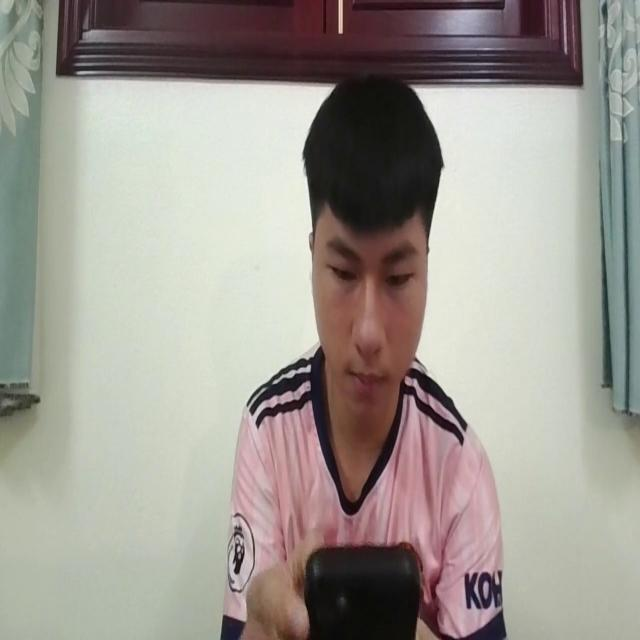phone: (301, 526, 423, 640)
student: (223, 64, 507, 640)
